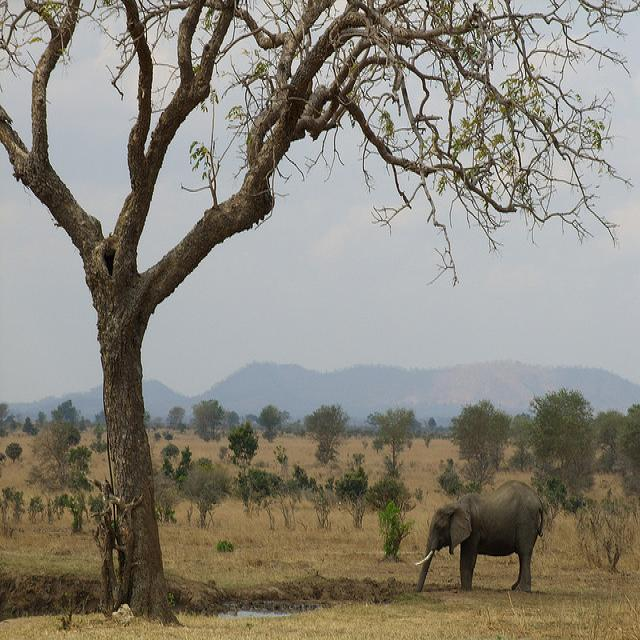Elephant: (413, 479, 544, 593)
